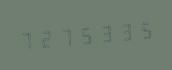five: (74, 21, 92, 49), (131, 16, 149, 44)
seven: (55, 22, 73, 51), (17, 26, 35, 54)
three: (112, 17, 130, 46), (93, 19, 111, 47)
two: (36, 24, 54, 52)
